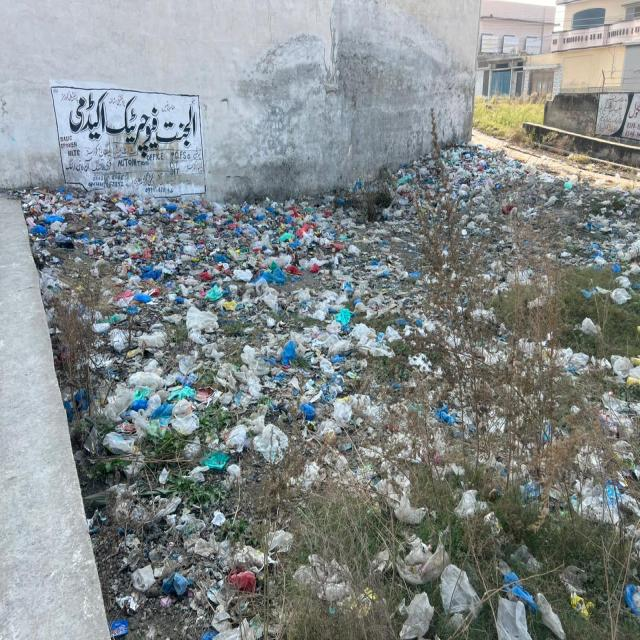garbage: (92, 293, 425, 446), (382, 456, 640, 639), (105, 461, 309, 640), (29, 190, 328, 280), (472, 337, 640, 446), (400, 148, 513, 220), (330, 190, 397, 297), (587, 192, 640, 303), (515, 165, 577, 231)
